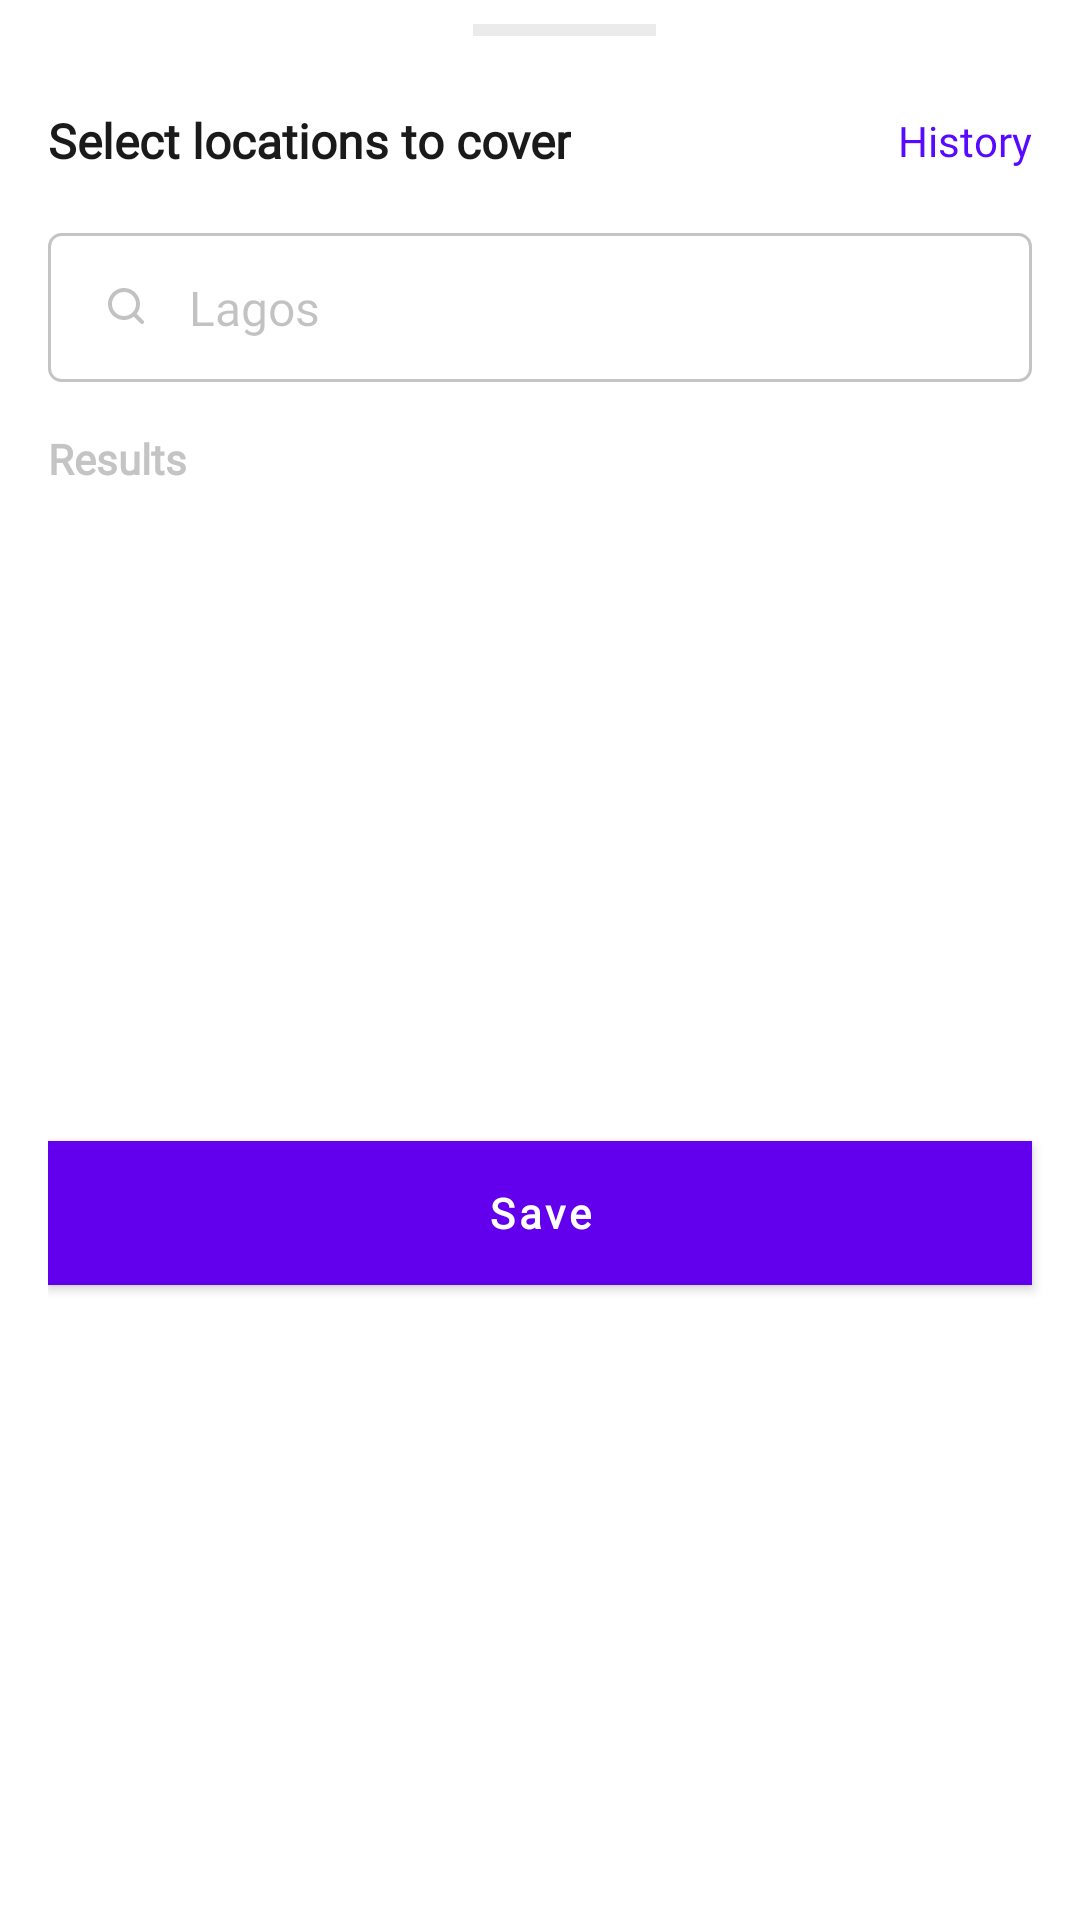

Named icons in this screenshot (1080×1920) and their bounding boxes, region(x1, y1, x2, y2):
search: region(108, 288, 144, 324)
